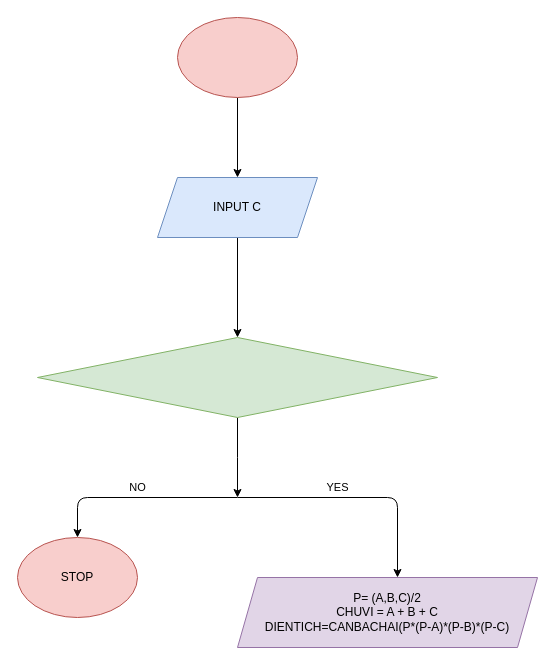
Some shapes in this 555 by 665 pixel diagram are drawn without their labels. The shapes that lost their labels are listed below. From the top down, each one's box as (x1, y1, x2, y2) in pixels, then its label:
(176, 16, 298, 98): START
(36, 336, 438, 418): (A+B) > C II (A+C) > B II (B+C) > A
